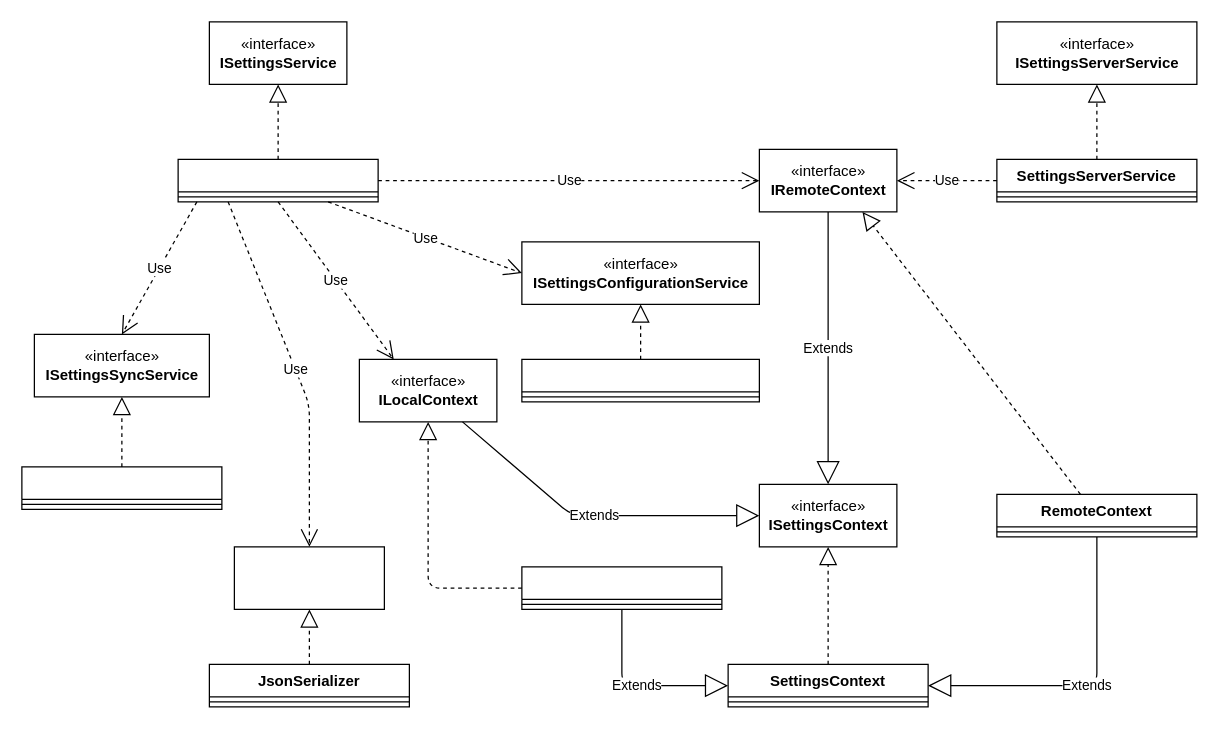
Some shapes in this 1219 by 730 pixel diagram are drawn without their labels. Each missing label, with the centre of its shape:
"LocalContext" goes at pixel 621 587.
"SettingsConfigurationService" goes at pixel 640 380.
"SettingsService" goes at pixel 277 180.
"SettingsSyncService" goes at pixel 121 487.
"«interface» ISettingsSerializer" goes at pixel 308 577.
